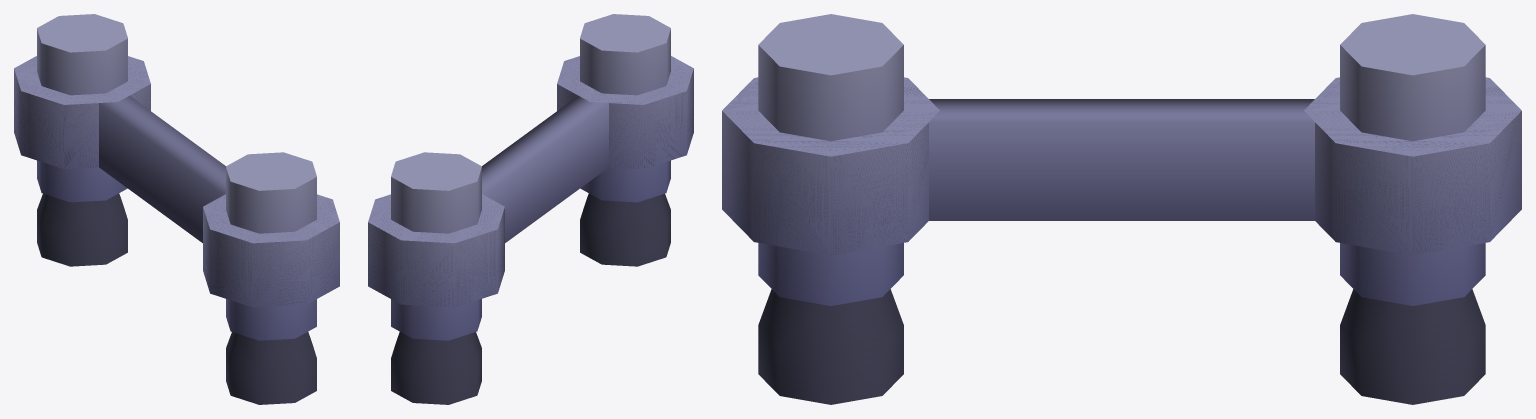
Rendered from kenney-factory-structure-short.glb.
3 renders of one model, left to right at view 1: azimuth 30°, elevation 25°; view 2: azimuth 150°, elevation 25°; view 3: azimuth 270°, elevation 25°, orthographic. The views are drawn at different scales.
Parts seen in each view (by area): view 1: structure-short; view 2: structure-short; view 3: structure-short.
Boxes of the visible parts, x1,y1,x2,y2 form: structure-short: (14, 14, 339, 404); structure-short: (368, 14, 693, 404); structure-short: (722, 14, 1521, 404).
Bounding box in the file's own units: 0.45 × 0.75 × 1.65.
Materials: 1 (1 with a texture image).
